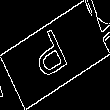P_SE: (31, 24, 79, 86)
